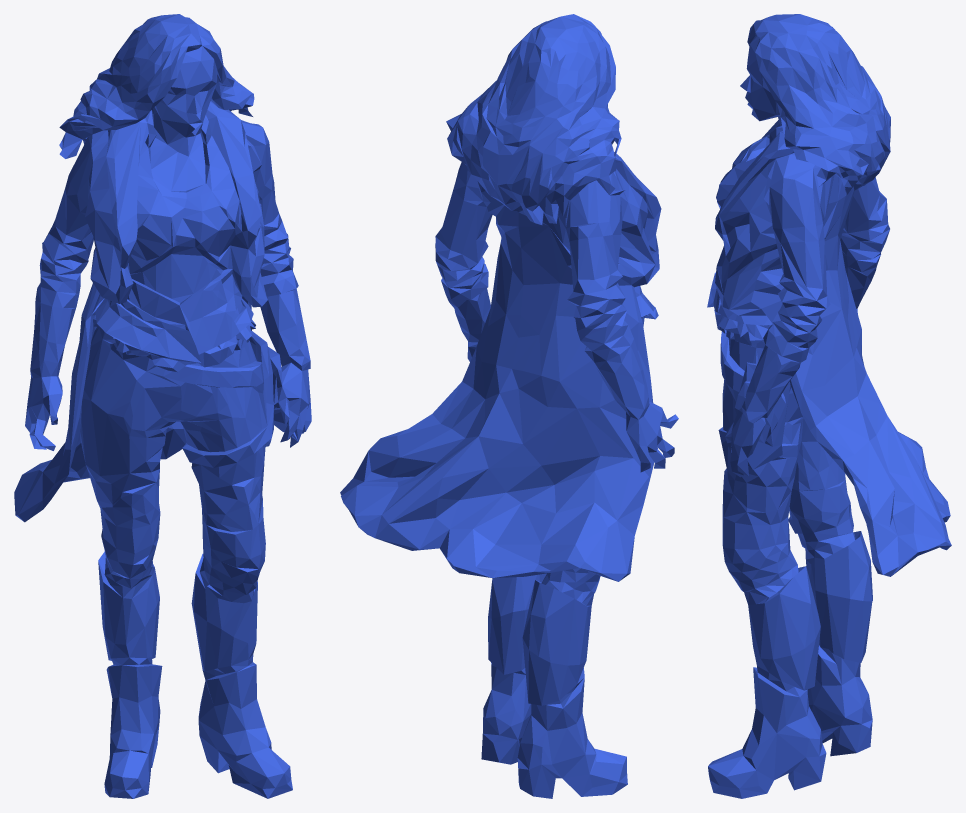
File: blueFoodPrisoner.dae
3 views of the same model, side by side, from view 1: azimuth 30°, elevation 25°; view 2: azimuth 150°, elevation 25°; view 3: azimuth 270°, elevation 25° (orthographic). The views are drawn at different scales.
Parts seen in each view (by area): view 1: obj_1_Object_1; view 2: obj_1_Object_1; view 3: obj_1_Object_1.
Part boxes in pixels (x1,y1,x2,y2): obj_1_Object_1: (14,14,311,798); obj_1_Object_1: (340,14,678,798); obj_1_Object_1: (707,14,951,798).
Size of the model in its own units: 0.627 by 0.447 by 1.5.
